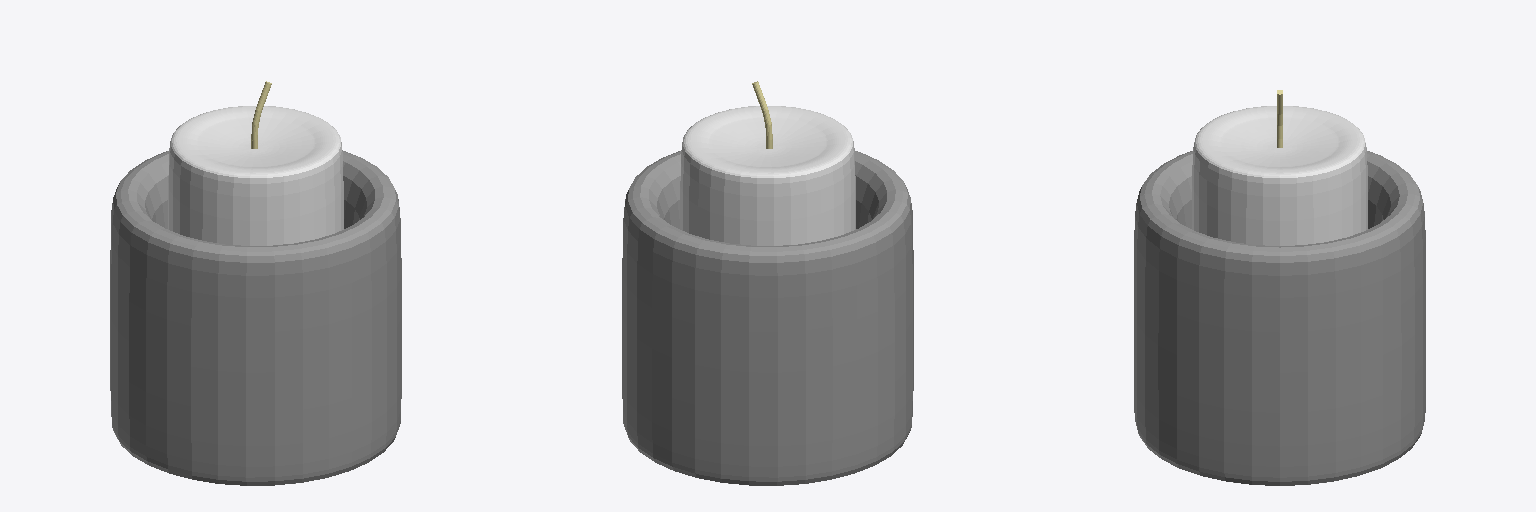
Rendered from candle.obj.
3 renders of one model, left to right at view 1: azimuth 30°, elevation 25°; view 2: azimuth 150°, elevation 25°; view 3: azimuth 270°, elevation 25°, orthographic.
Parts seen in each view (by area): view 1: Candle_Holder, Candle; view 2: Candle_Holder, Candle; view 3: Candle_Holder, Candle.
Part boxes in pixels (x1,y1,x2,y2): Candle_Holder: (110,150,401,485); Candle: (168,106,343,245); Candle_Holder: (622,150,913,485); Candle: (680,106,855,245); Candle_Holder: (1134,151,1425,485); Candle: (1192,106,1367,245).
Bounding box in the file's own units: 1.96 × 2.54 × 1.96.